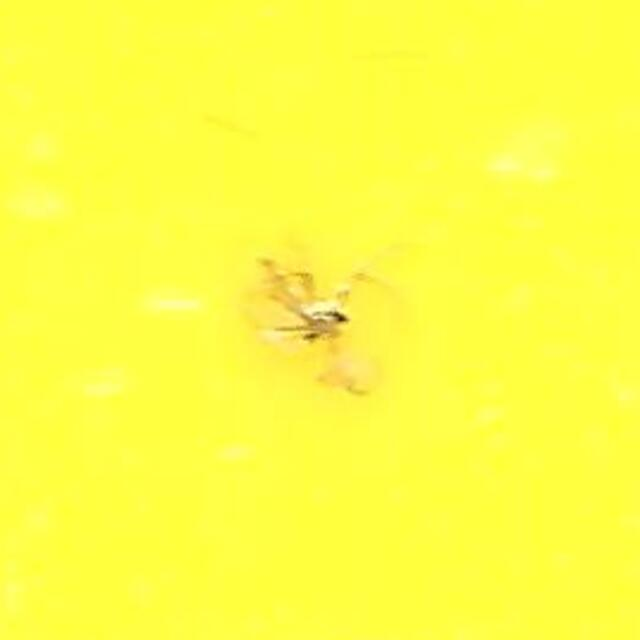Nematocera: (239, 240, 401, 400)
